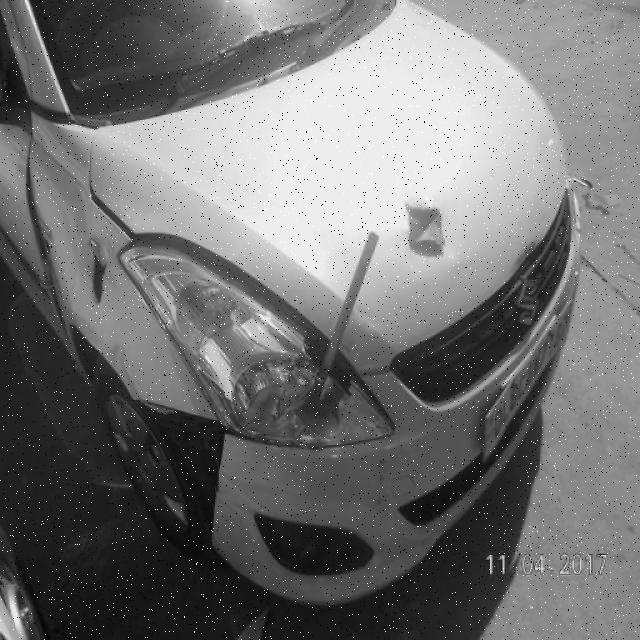car damage: (128, 231, 360, 435), (134, 400, 228, 551), (25, 144, 65, 341), (403, 198, 447, 263), (88, 238, 112, 306)
